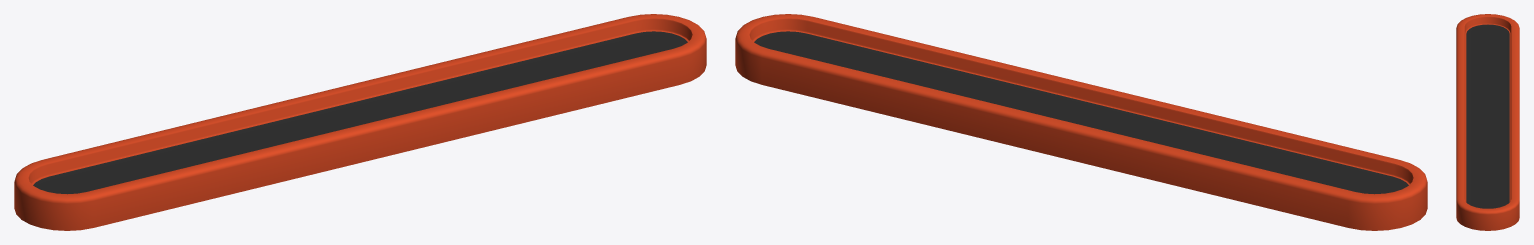
Rendered from Shredder_MESH.fbx.
3 renders of one model, left to right at view 1: azimuth 30°, elevation 25°; view 2: azimuth 150°, elevation 25°; view 3: azimuth 270°, elevation 25°, orthographic. The views are drawn at different scales.
Parts seen in each view (by area): view 1: Shredder_MESH; view 2: Shredder_MESH; view 3: Shredder_MESH.
Part boxes in pixels (x1=…): Shredder_MESH: x1=14, y1=14, x2=706, y2=230; Shredder_MESH: x1=735, y1=14, x2=1427, y2=230; Shredder_MESH: x1=1456, y1=14, x2=1519, y2=230.
Size of the model in its own units: 131 by 5.78 by 17.7.
